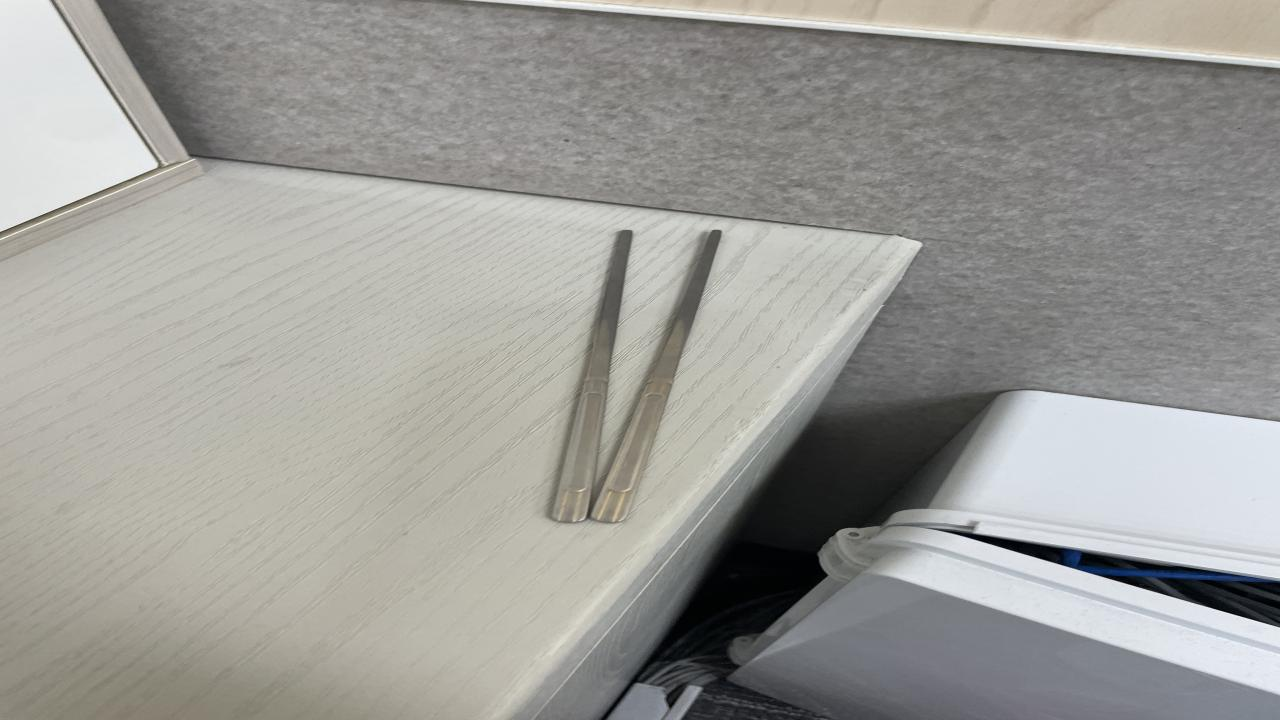chopstick: (552, 231, 723, 522)
